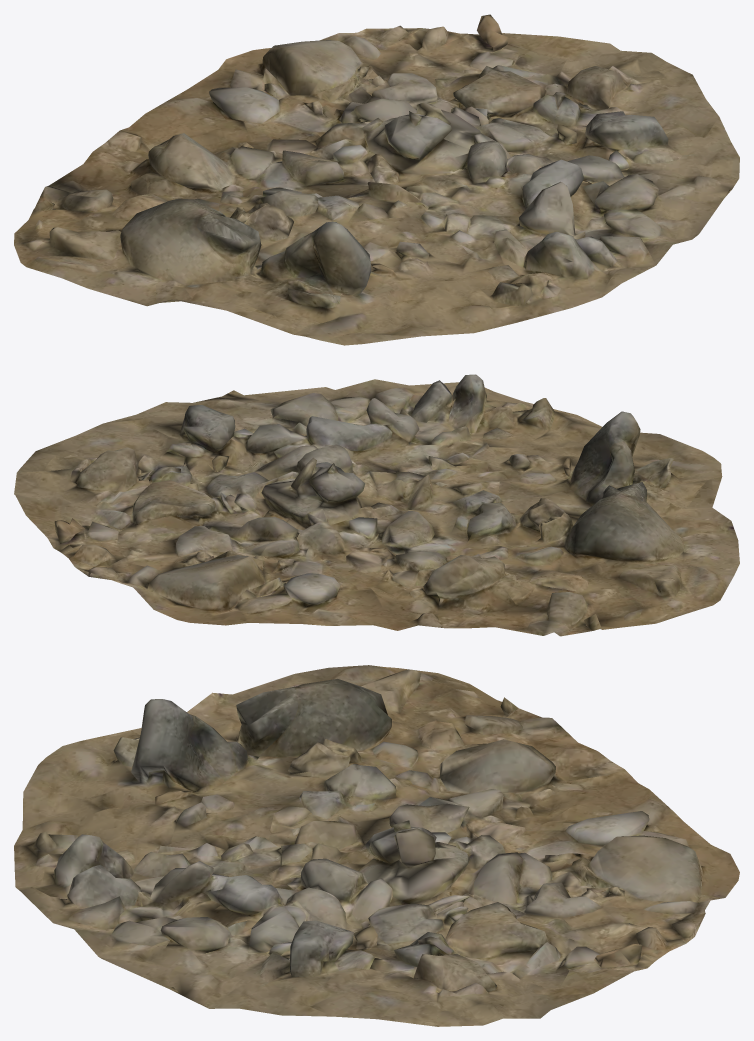
Rendered from nature_rock_t1_small.glb.
The picture shows the model from 3 angles, top to bottom: view 1: azimuth 30°, elevation 25°; view 2: azimuth 150°, elevation 25°; view 3: azimuth 270°, elevation 25°; orthographic projection. The views are drawn at different scales.
Visible parts, largest first — view 1: sand_rocks_small_01_LOD0; view 2: sand_rocks_small_01_LOD0; view 3: sand_rocks_small_01_LOD0.
Boxes of the visible parts, box(x1,y1,x2,y2) form: sand_rocks_small_01_LOD0: box(14, 14, 739, 345); sand_rocks_small_01_LOD0: box(14, 374, 739, 636); sand_rocks_small_01_LOD0: box(14, 665, 739, 1026).
Size of the model in its own units: 2.5 by 0.287 by 2.1.
1 material, 1 textured.
